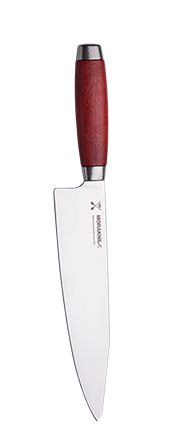knife: (52, 44, 107, 424)
